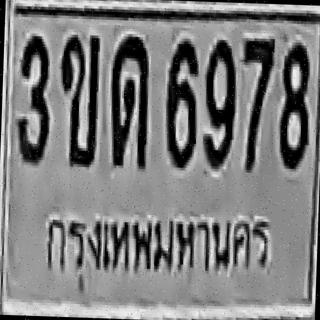A02: (56, 33, 100, 166)
N00: (202, 38, 237, 168)
N03: (14, 33, 51, 163)
N06: (164, 38, 199, 168)
N07: (239, 36, 275, 172)
N08: (277, 41, 310, 168)
N09: (202, 38, 237, 168)
P04: (38, 202, 271, 299)
